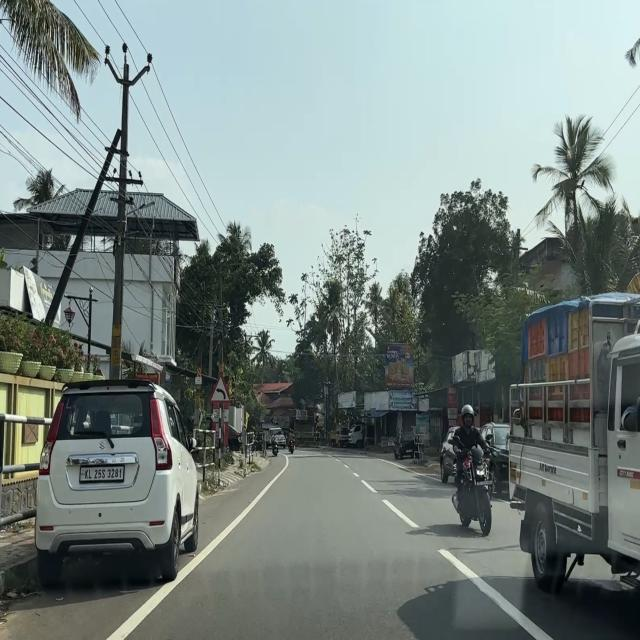LEFT_TURN_AHEAD: (210, 374, 232, 404)
